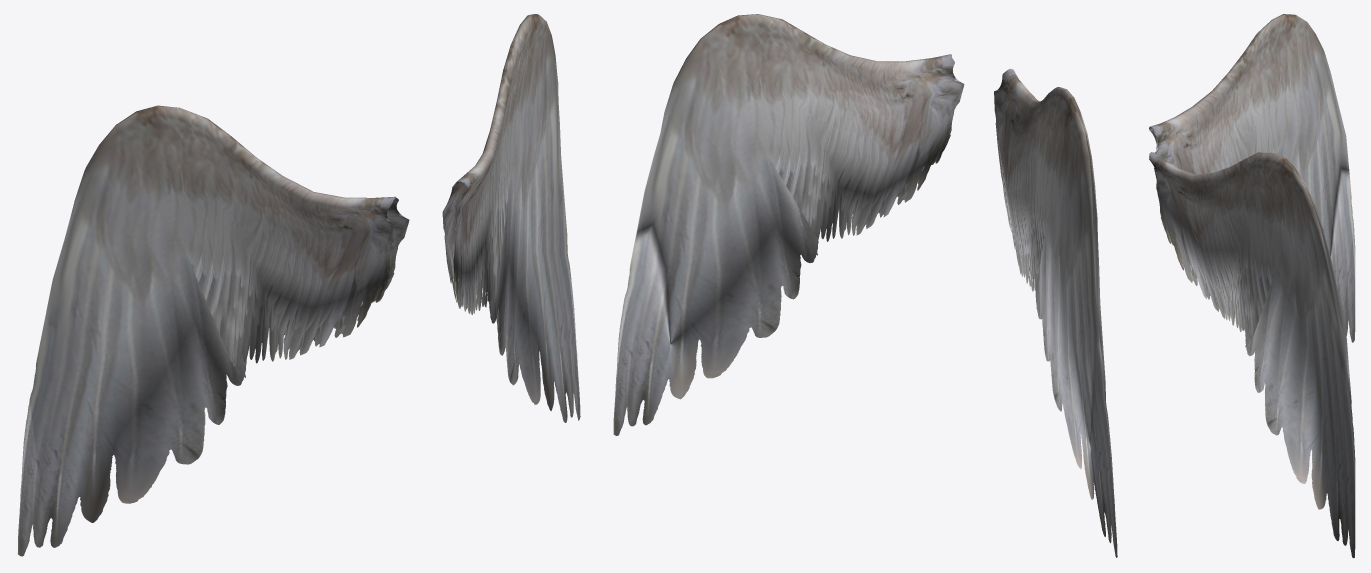
Rendered from wings.obj.
3 renders of one model, left to right at view 1: azimuth 30°, elevation 25°; view 2: azimuth 150°, elevation 25°; view 3: azimuth 270°, elevation 25°, orthographic. The views are drawn at different scales.
Visible parts, largest first — view 1: wings_folded_reference; view 2: wings_folded_reference; view 3: wings_folded_reference.
Boxes of the visible parts, x1,y1,x2,y2 form: wings_folded_reference: (17, 14, 580, 556); wings_folded_reference: (613, 14, 1117, 557); wings_folded_reference: (1149, 14, 1355, 558).
Bounding box in the file's own units: 60.21 × 46.68 × 24.34.
